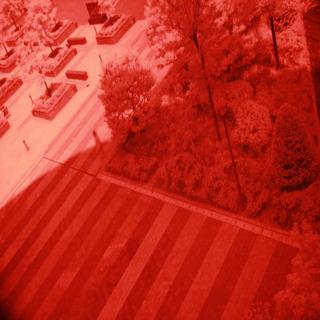person: (87, 122, 107, 168)
